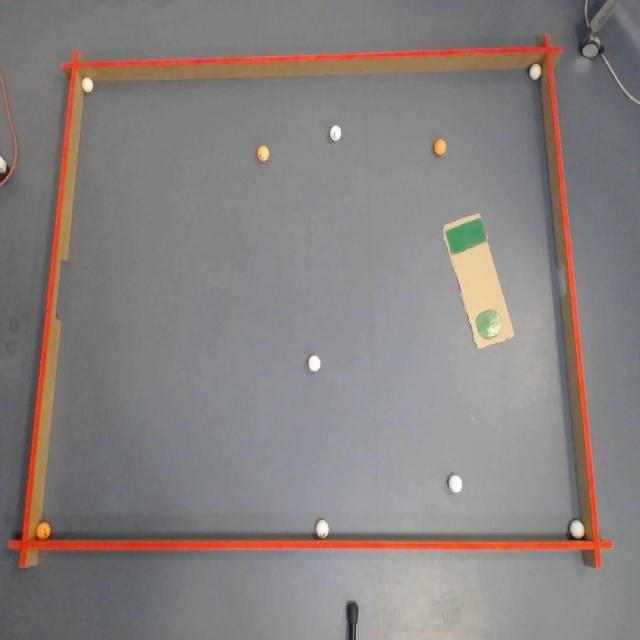orange_ball: (34, 521, 52, 541), (256, 145, 270, 162), (434, 138, 447, 156)
white_ball: (569, 519, 585, 540), (316, 518, 330, 539), (448, 474, 462, 494), (528, 62, 542, 80), (308, 354, 321, 372), (82, 78, 93, 94), (331, 125, 342, 141)
